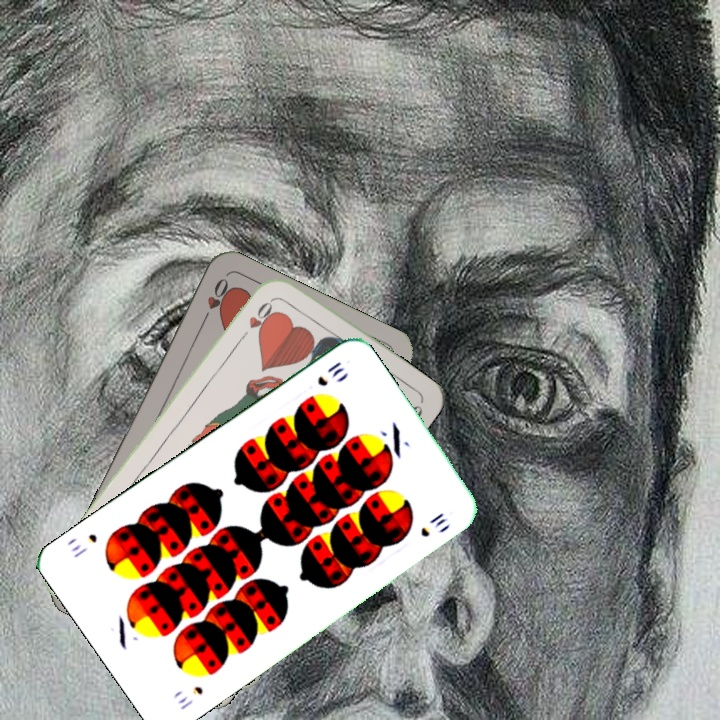HO: (234, 294, 276, 344), (196, 273, 232, 328)
S10: (313, 357, 347, 390), (173, 682, 206, 713)
